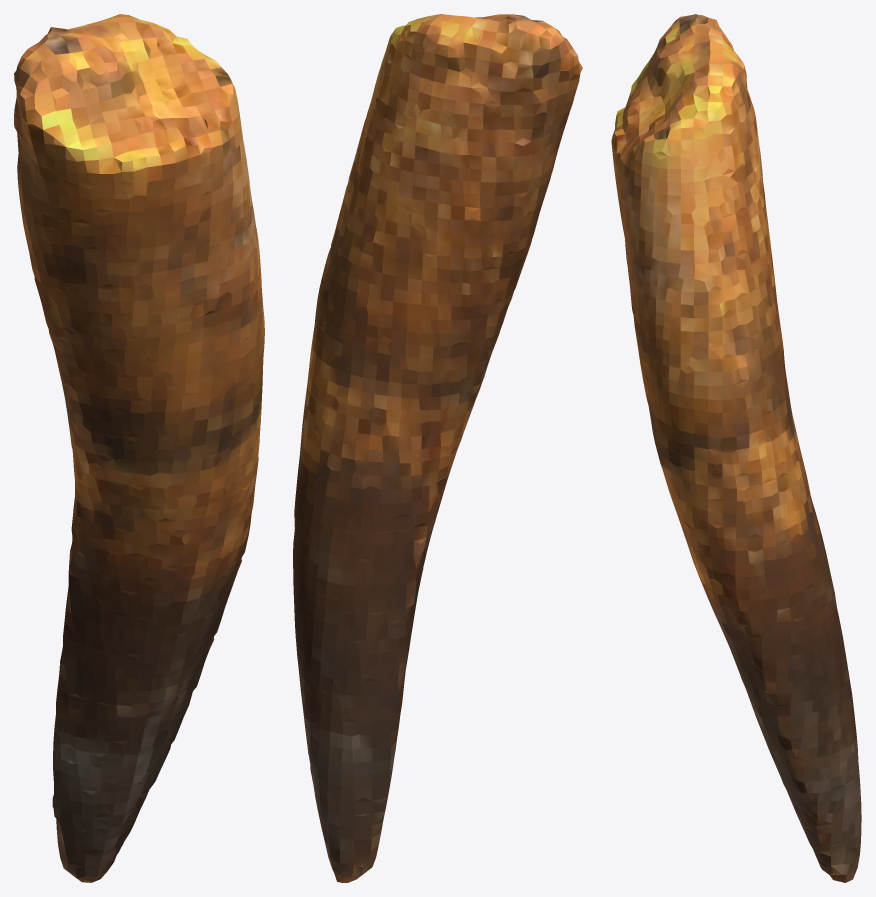
File: fang.glb
The picture shows the model from 3 angles, left to right: view 1: azimuth 30°, elevation 25°; view 2: azimuth 150°, elevation 25°; view 3: azimuth 270°, elevation 25°; orthographic projection. The views are drawn at different scales.
Bounding box in the file's own units: 31.96 × 108 × 30.02.
1 material, 1 textured.
